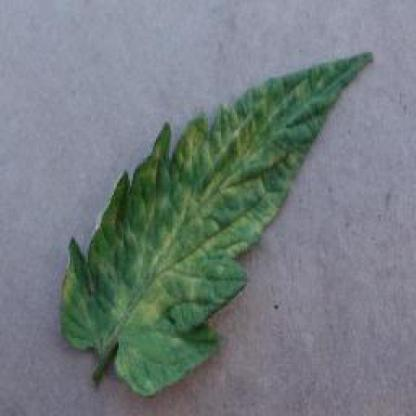Tomato_Leaf_Mold: (59, 52, 373, 390)
